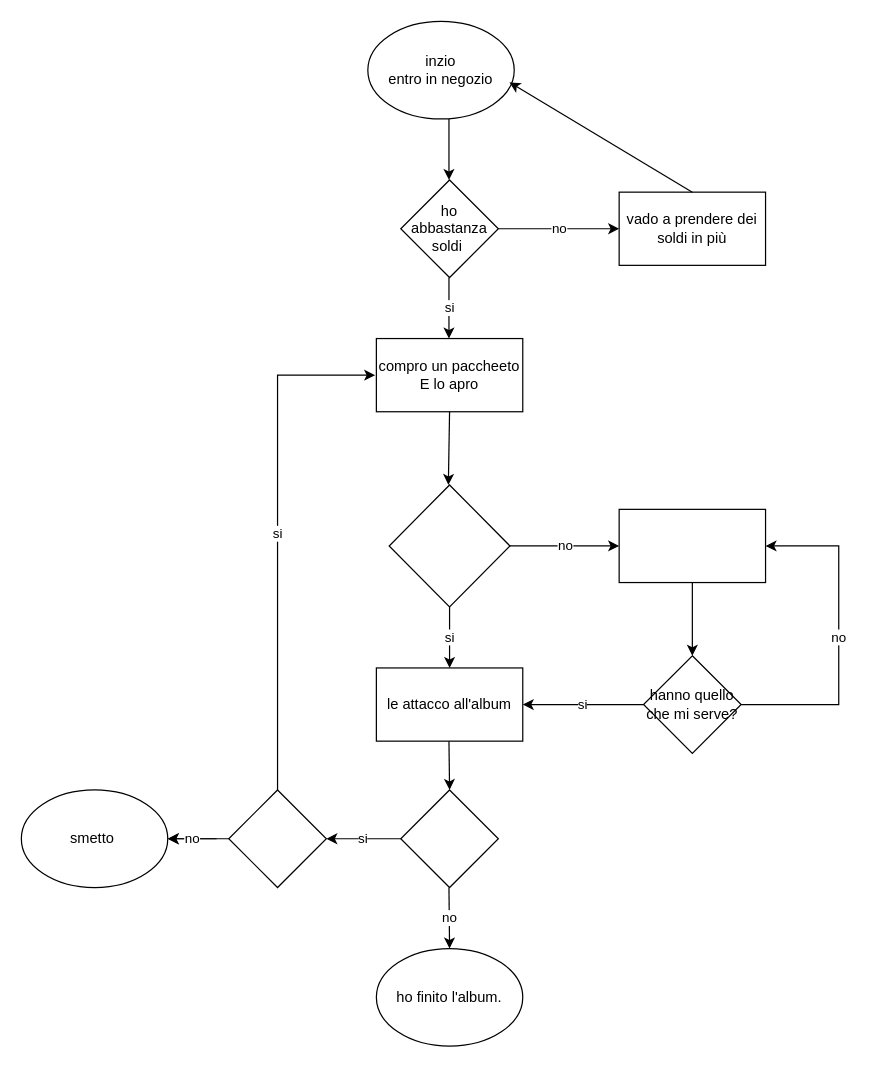
Some shapes in this 870 by 1068 pixel diagram are drawn without their labels. Each missing label, with the centre of its shape:
le carte che ho trovato sono nuove?: [449,545]
mi servono ancora carte?: [449,838]
no le metto da parte per scambiarle: [692,545]
posso spendere altri soldi?: [277,838]
